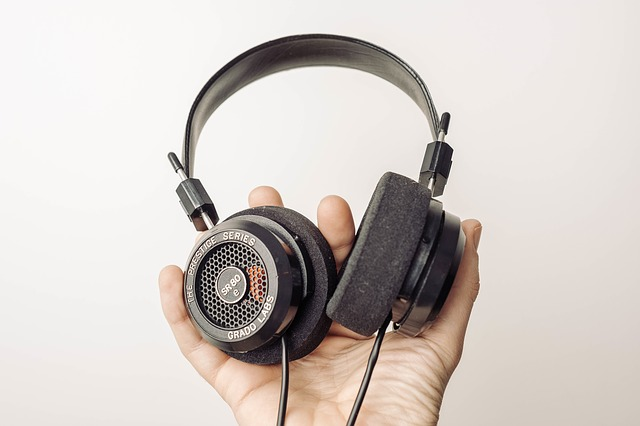headphones: (176, 35, 467, 367)
